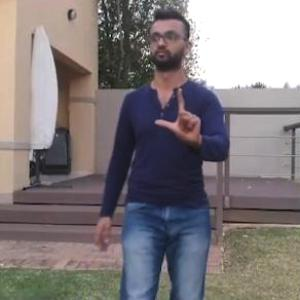land_hand: (147, 81, 205, 150)
